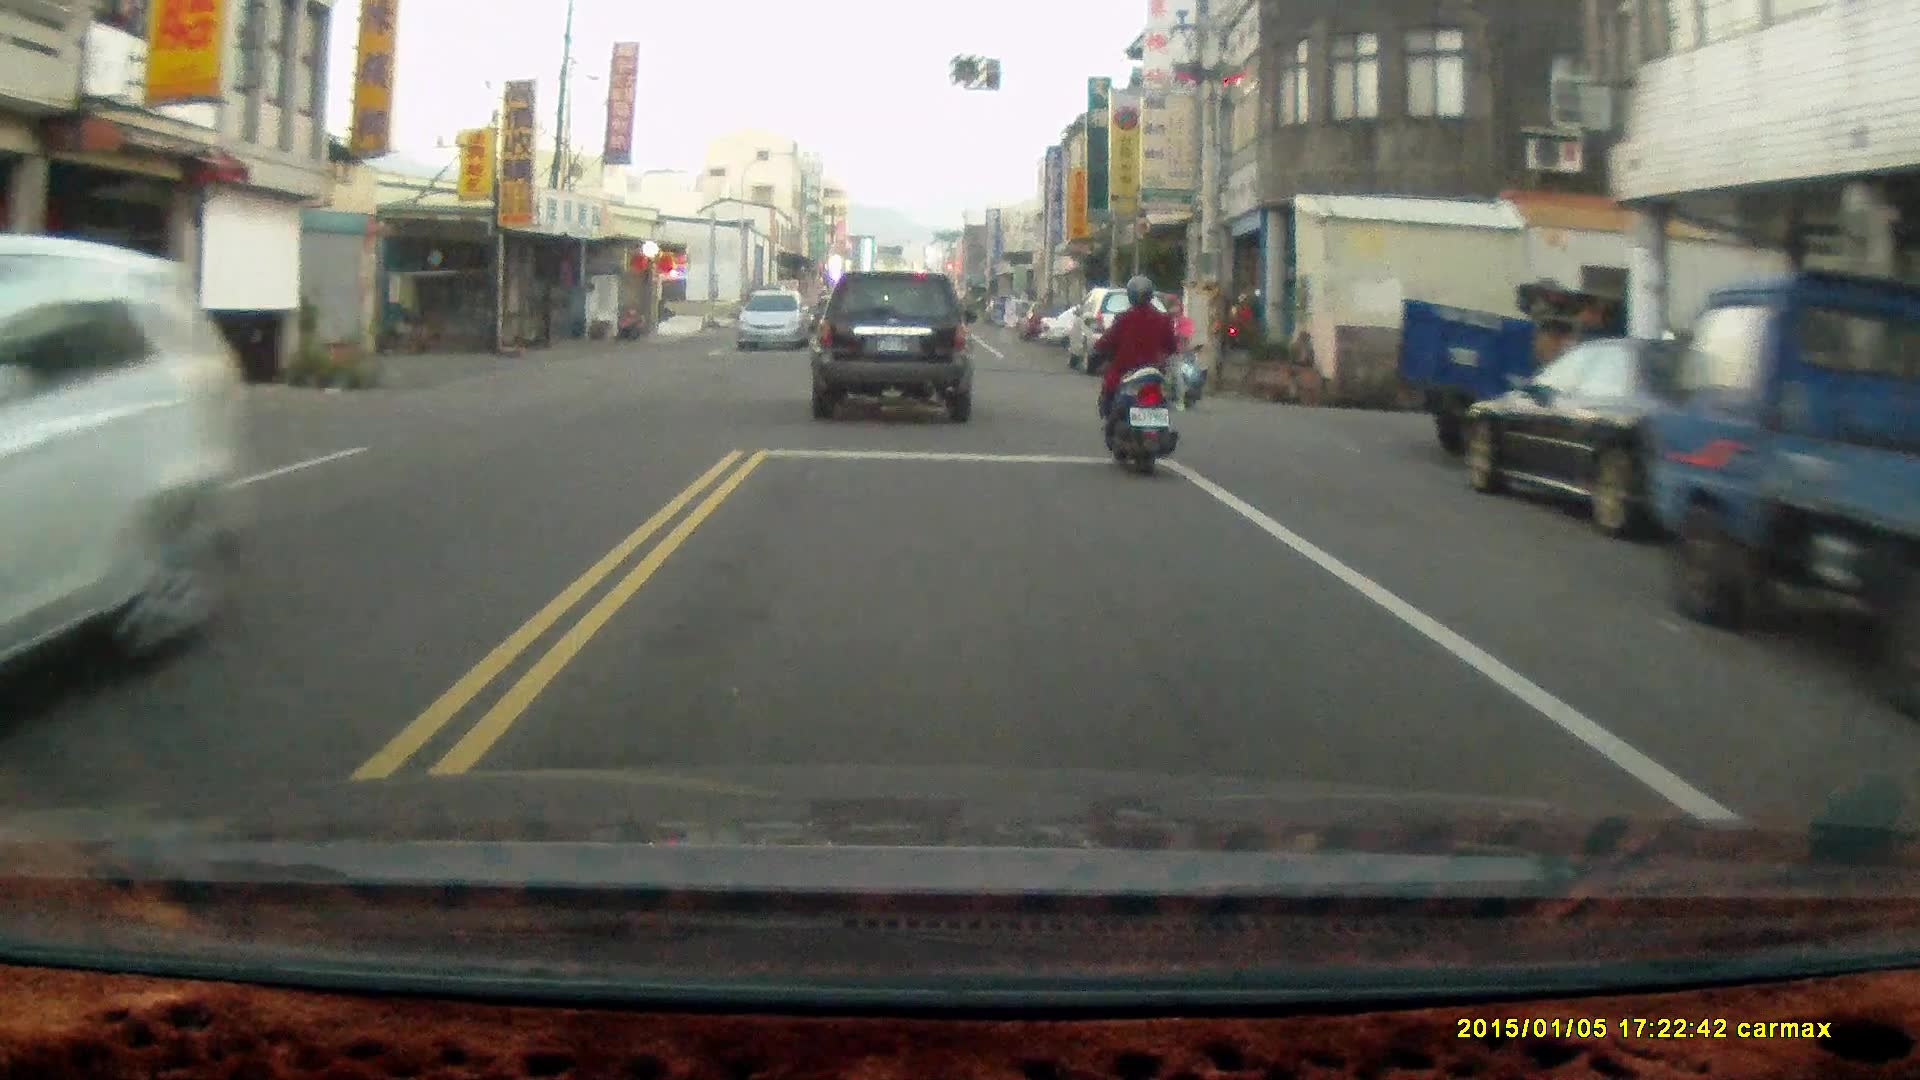rider: (1098, 272, 1176, 479)
vehicle: (1, 235, 249, 749), (1654, 267, 1920, 690), (1456, 329, 1856, 538), (1394, 276, 1670, 462), (808, 267, 980, 425), (1069, 286, 1179, 372), (737, 290, 814, 354)
